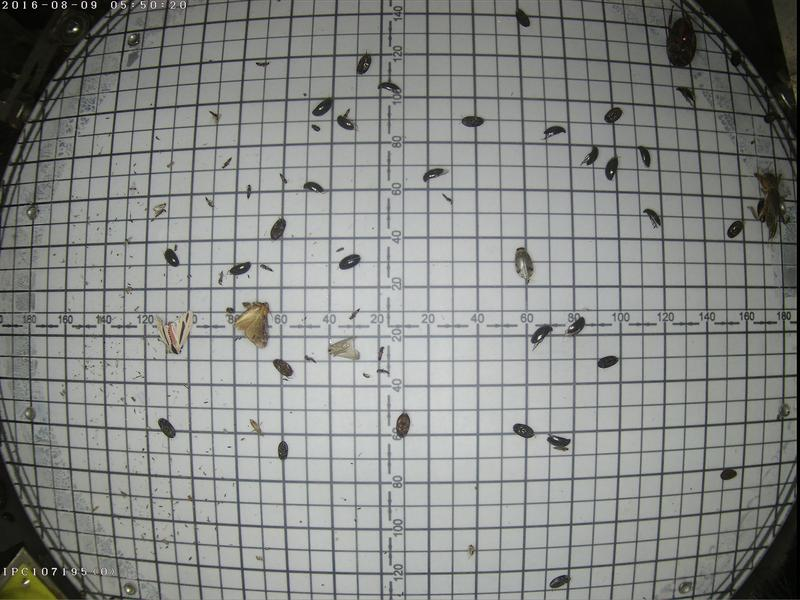Gryllotalpa orientalis: (744, 157, 792, 250)
Spodoptera litura: (326, 333, 362, 362)
